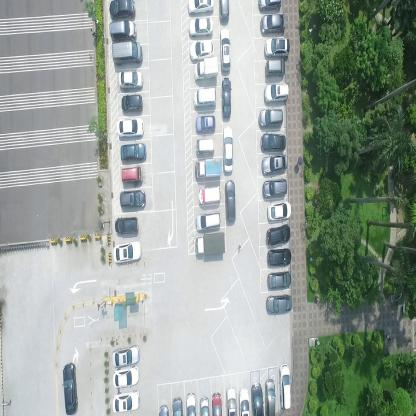car: (63, 361, 79, 416), (112, 238, 142, 264), (195, 230, 226, 255), (111, 345, 139, 371), (112, 362, 140, 388), (112, 40, 142, 64), (112, 388, 140, 413), (194, 56, 219, 82), (279, 362, 292, 410), (261, 152, 288, 175), (108, 0, 136, 22), (115, 116, 144, 137), (264, 80, 290, 103), (194, 157, 221, 179), (265, 292, 292, 314), (258, 106, 284, 128), (260, 12, 286, 34), (264, 37, 290, 59), (196, 209, 222, 231), (110, 19, 136, 41), (266, 222, 290, 245), (223, 124, 234, 174), (266, 198, 291, 220), (260, 132, 287, 152), (119, 189, 146, 209), (193, 86, 217, 108), (262, 176, 287, 197), (119, 70, 144, 91), (120, 142, 146, 162), (224, 176, 236, 219), (190, 38, 214, 59), (197, 186, 221, 207), (267, 268, 292, 288), (220, 26, 231, 71), (189, 16, 213, 36), (114, 214, 138, 234), (251, 381, 264, 415), (268, 246, 292, 264), (222, 76, 232, 118), (264, 57, 285, 77), (187, 0, 215, 15), (120, 165, 142, 184), (121, 94, 143, 112), (265, 377, 275, 415), (196, 114, 216, 132), (225, 385, 237, 415), (196, 137, 215, 154), (239, 386, 249, 416), (211, 390, 223, 415), (258, 0, 282, 12), (199, 394, 210, 415), (186, 392, 196, 415), (219, 0, 229, 22), (172, 396, 183, 415)
